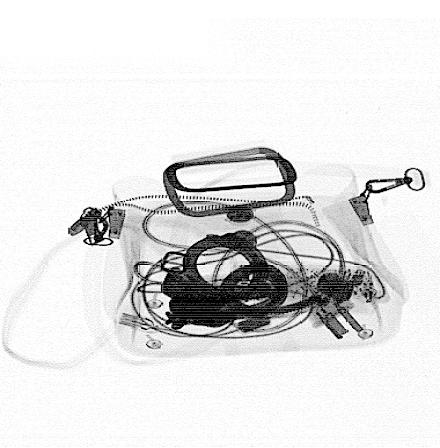HandCuffs: (156, 227, 328, 335)
